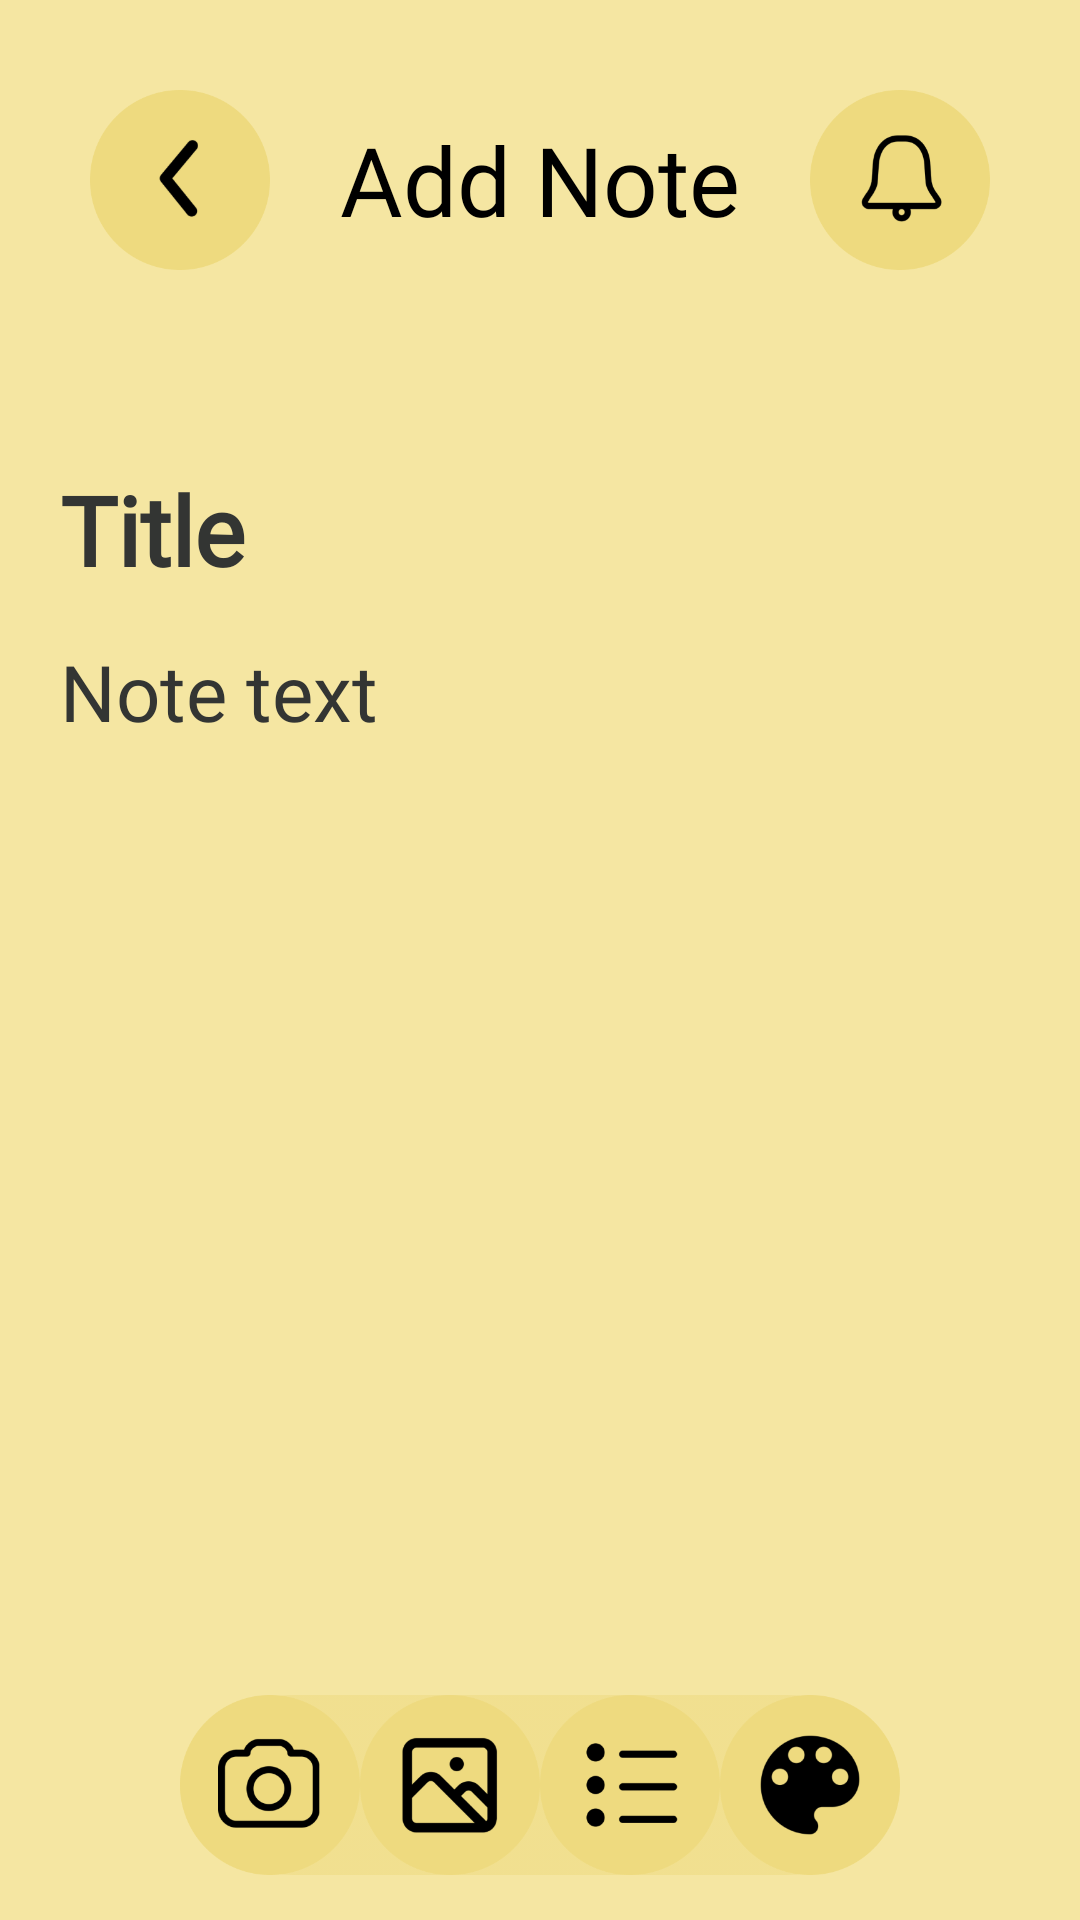

Screen size 1080*1920. Icon name, then its box in pixels as (x1, y1, x2, y2):
paper back: (90, 90, 270, 270)
paper camera: (180, 1695, 360, 1875)
paper gallery: (402, 1738, 497, 1833)
paper list: (540, 1695, 720, 1875)
paper notification: (810, 90, 990, 270)
paper palette: (720, 1695, 900, 1875)
